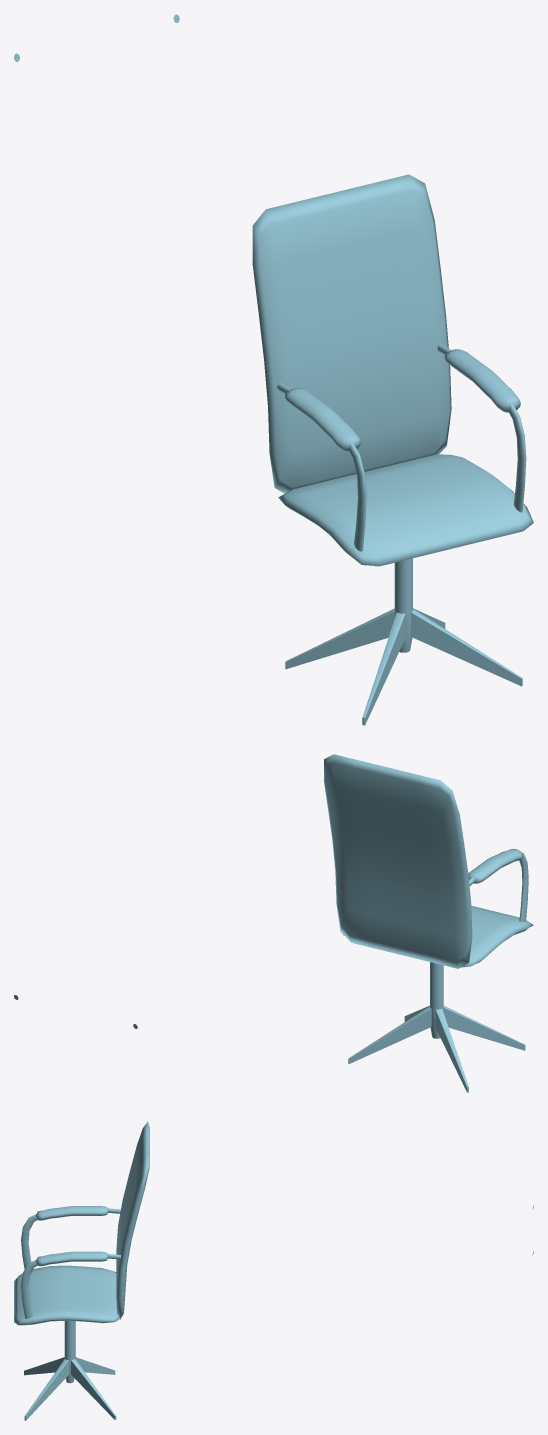
File: chaise_bureau.FBX
The picture shows the model from 3 angles, top to bottom: view 1: azimuth 30°, elevation 25°; view 2: azimuth 150°, elevation 25°; view 3: azimuth 270°, elevation 25°; orthographic projection. The views are drawn at different scales.
Visible parts, largest first — view 1: pied; view 2: pied; view 3: pied.
Part boxes in pixels (left/top/right/bottom): pied: left=14, top=14, right=533, bottom=725; pied: left=14, top=754, right=533, bottom=1092; pied: left=14, top=1121, right=533, bottom=1420.
Size of the model in its own units: 107 by 170 by 314.
